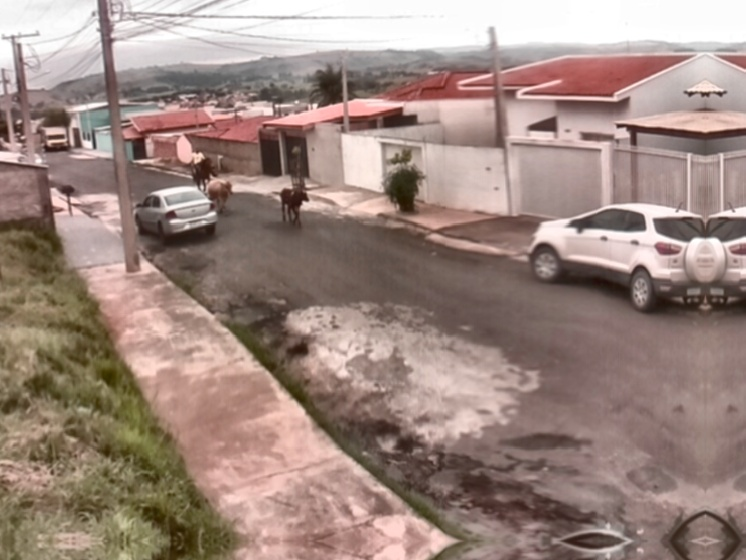person: (190, 148, 204, 167)
